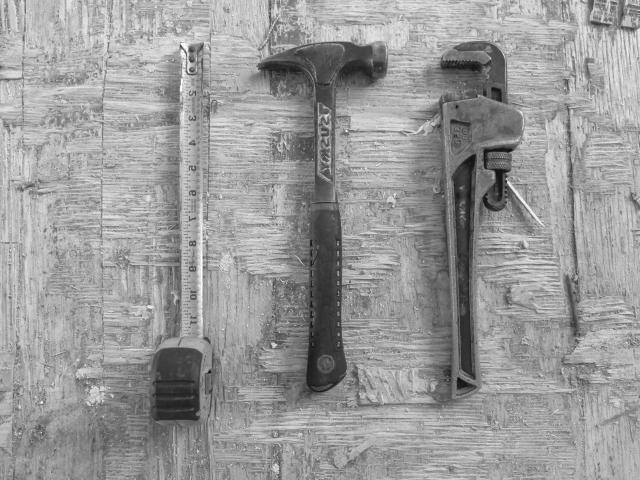Hammer: (258, 41, 388, 392)
Tape measure: (150, 42, 212, 426)
